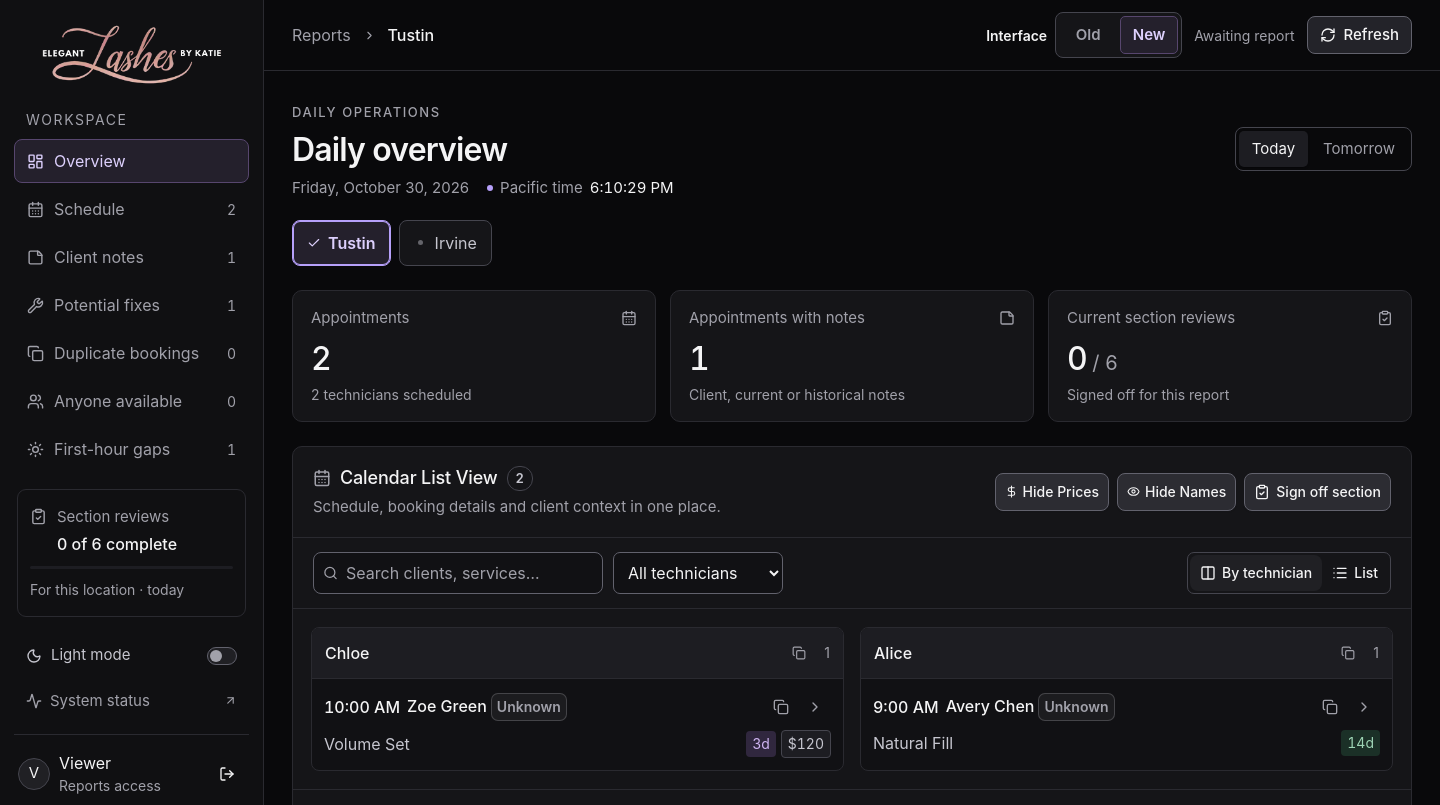
it: navigation keeps each review section separate and location/date changes clear filters
Expected: the button with aria-label "Sign off Calendar List View" is shown, [1244,473,1391,511]
Click the button "Client notes 1": [132, 258] box [14,236,249,280]
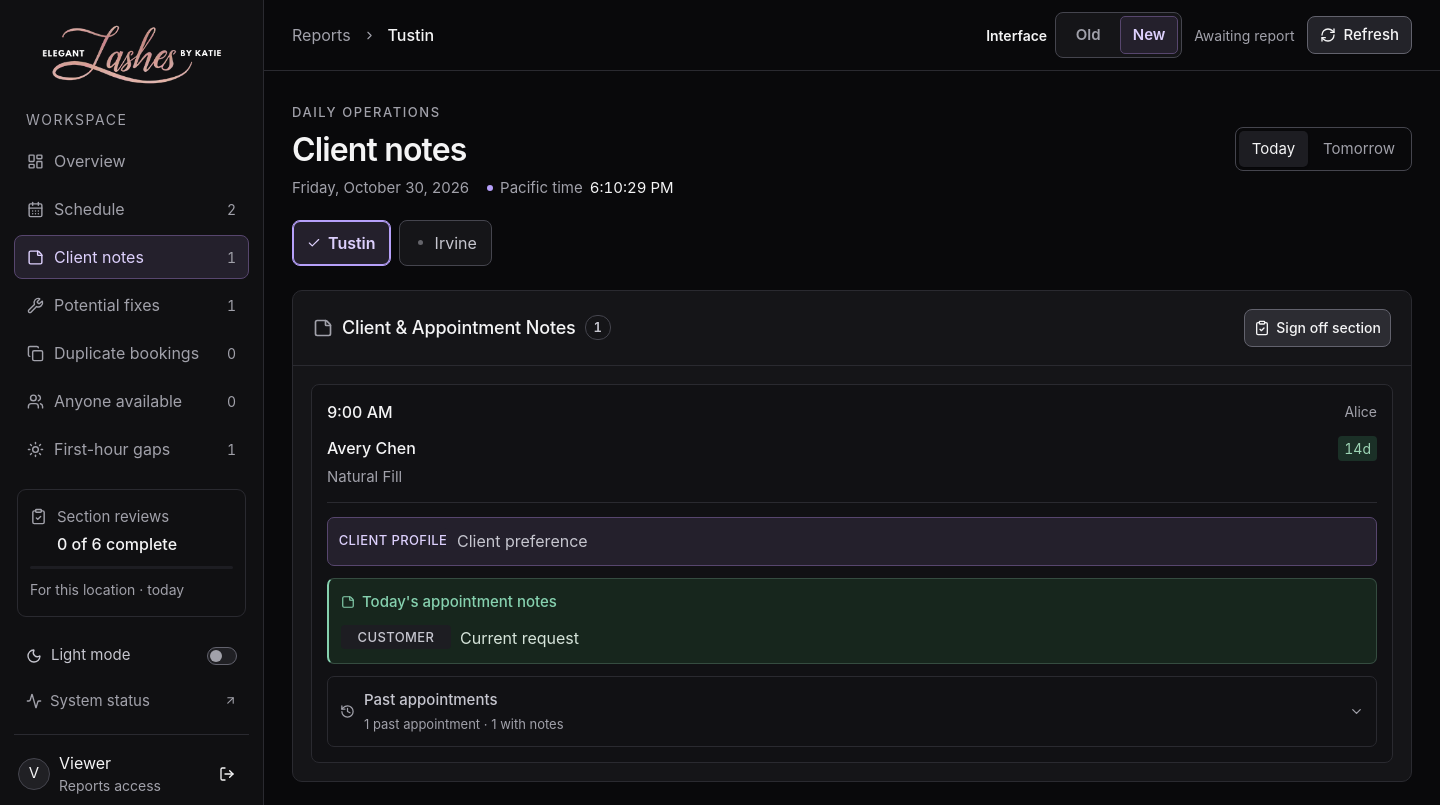
Expected: the heading "Client & Appointment Notes 1" is shown, [313,315,611,341]
Result: the heading "Calendar List View" is gone
Click the button "Schedule 2": [132, 210] box [14,188,249,232]
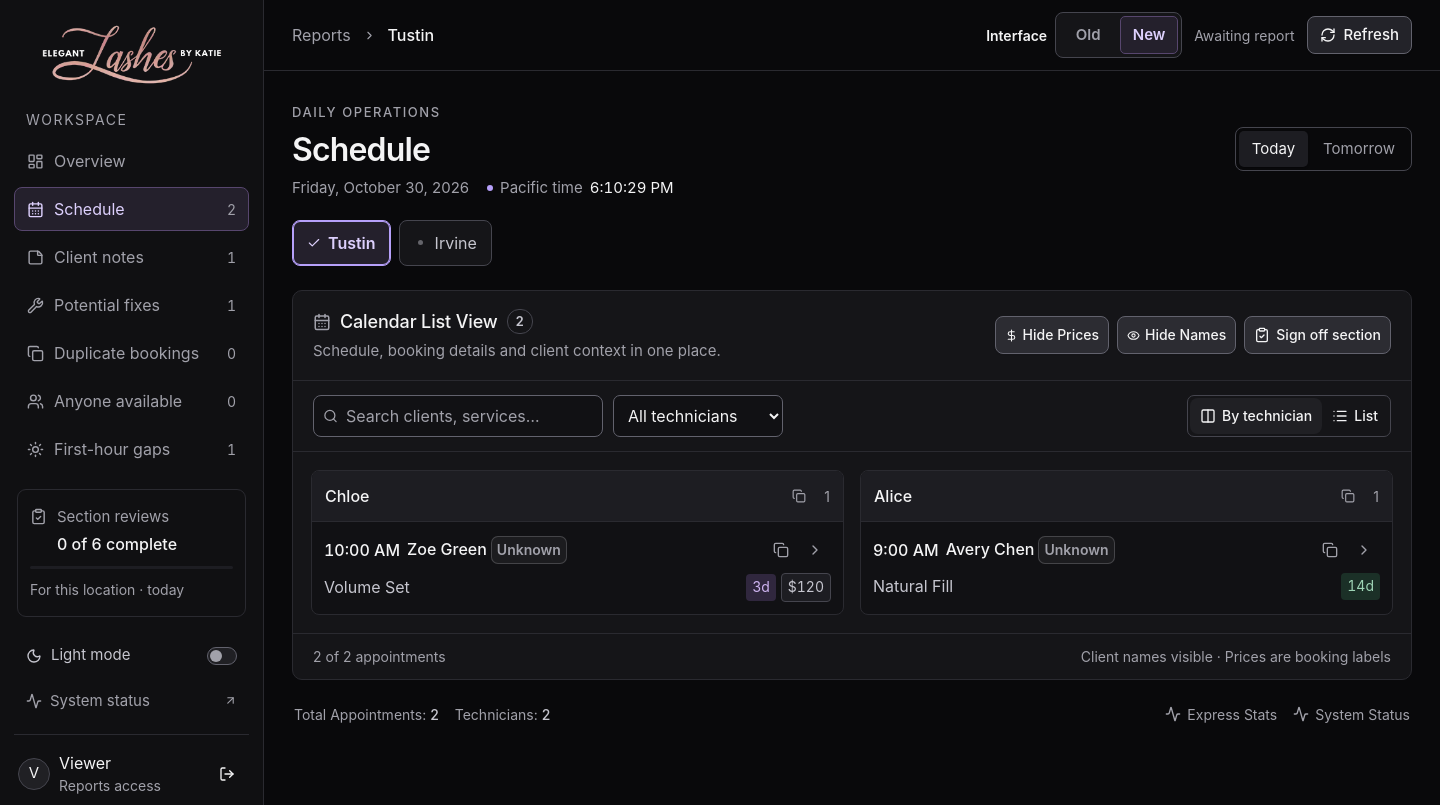
Select "Alice" in the dropdown named "Filter by technician": [698, 416] box [613,395,783,437]
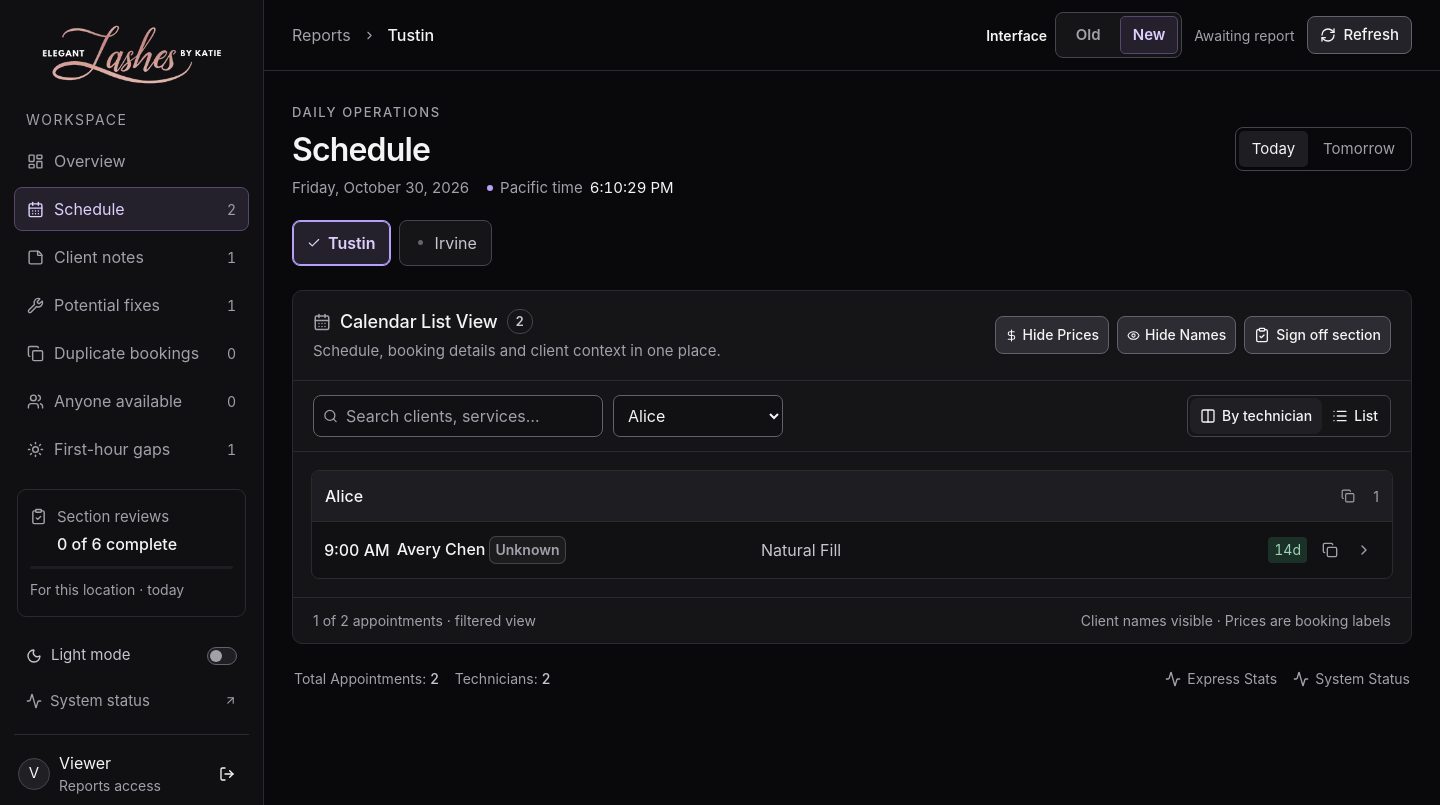
Result: the text "1 of 2 appointments · filtered view" is shown at [313,610,536,631]
Click the button "Irvine": [445, 243] box [399,220,492,266]
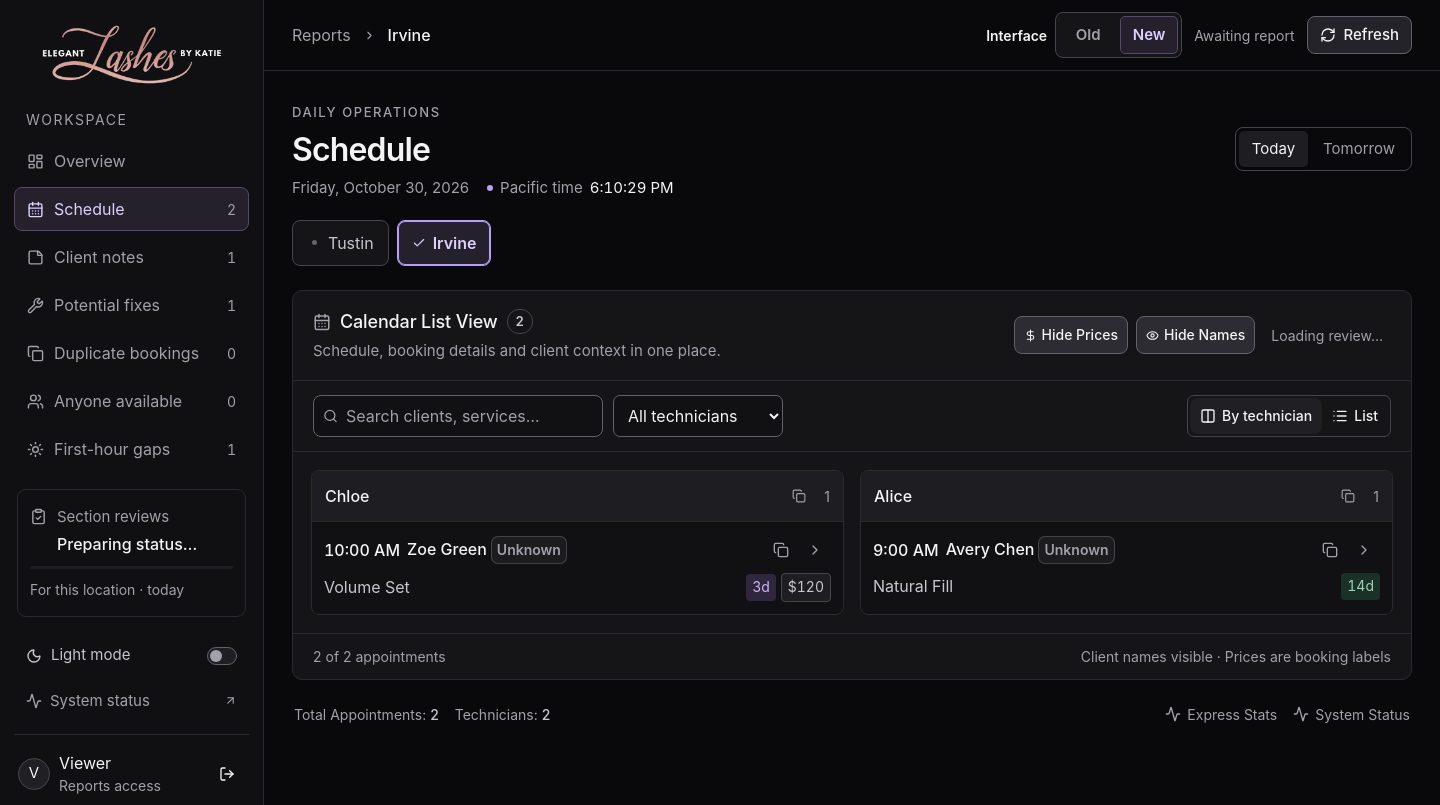
Result: the dropdown named "Filter by technician" shows "All technicians" at [613,395,783,437]
In the field named "Search schedule": [458, 416] box [313,395,603,437], type "Natural"
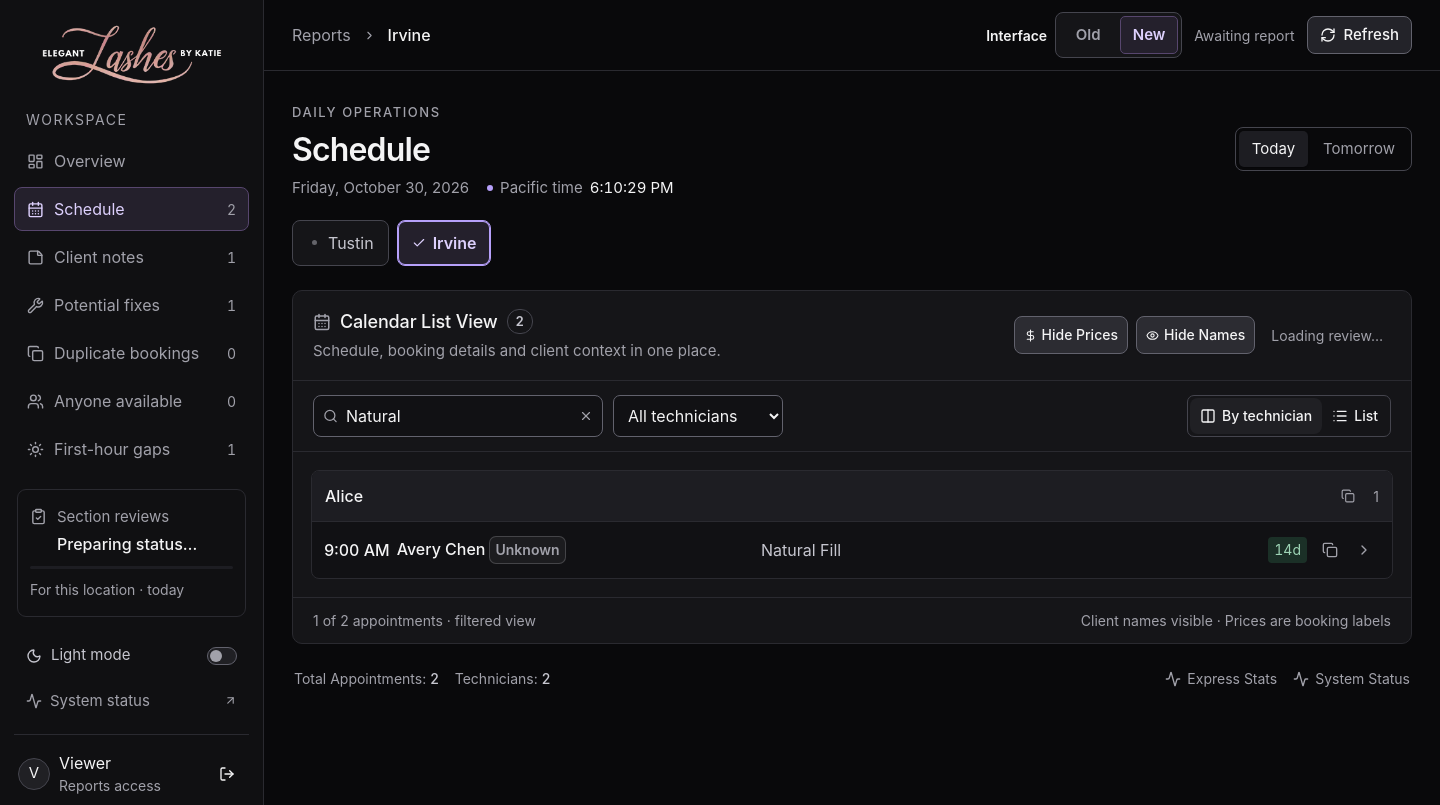
Click the button "Tomorrow": [1359, 149] box [1310,131,1408,167]
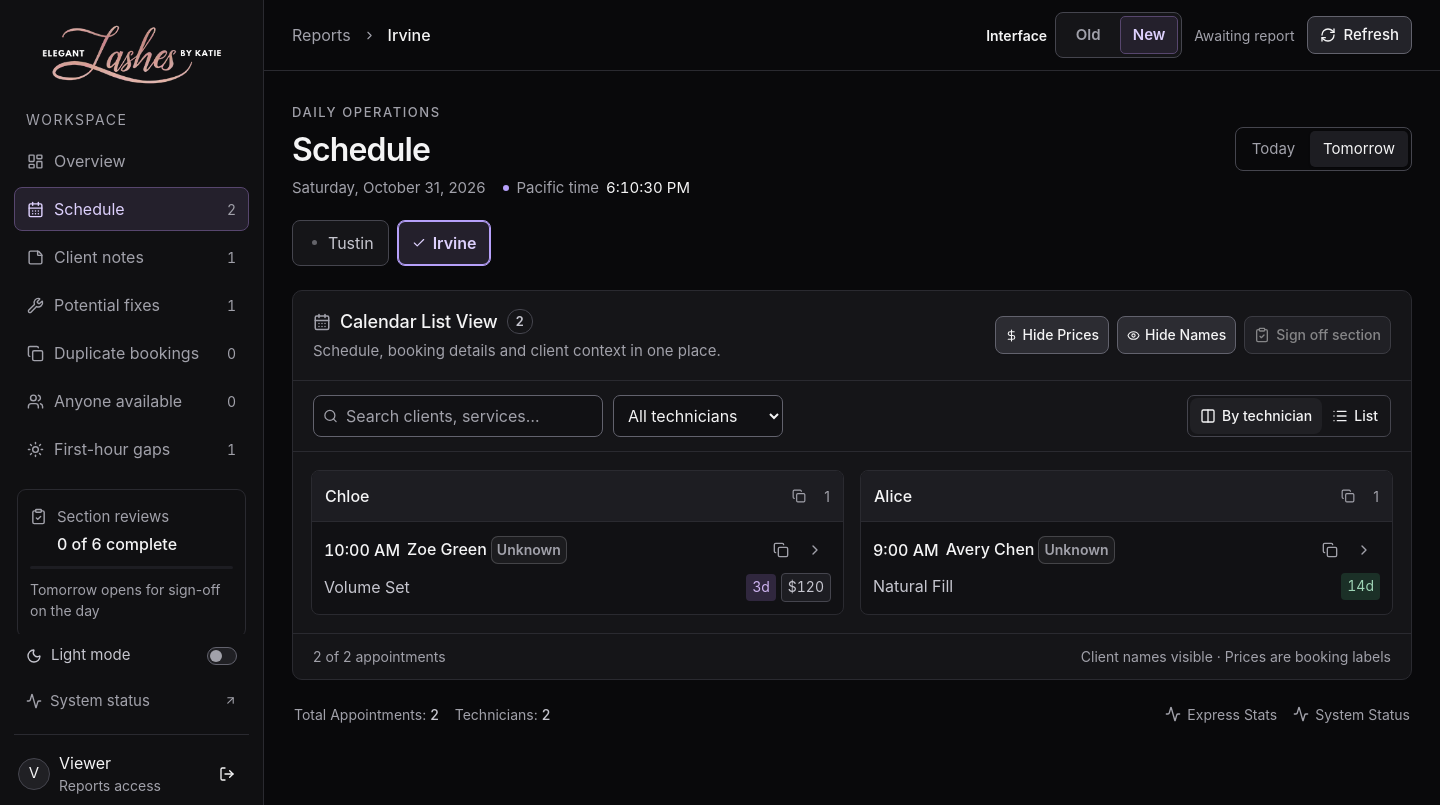
Result: the field named "Search schedule" is empty at [313,395,603,437]
Result: the button with aria-label "Sign off Calendar List View" is disabled at [1244,316,1391,354]
